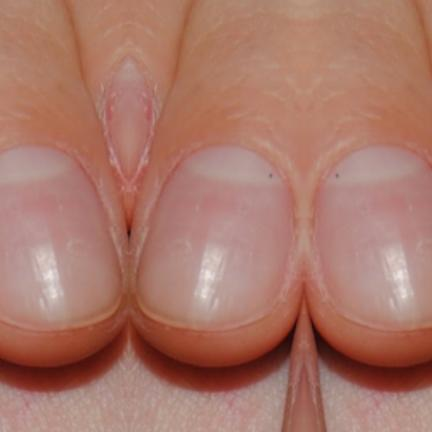Nail: (134, 143, 293, 331), (0, 143, 122, 331), (314, 143, 432, 331)
